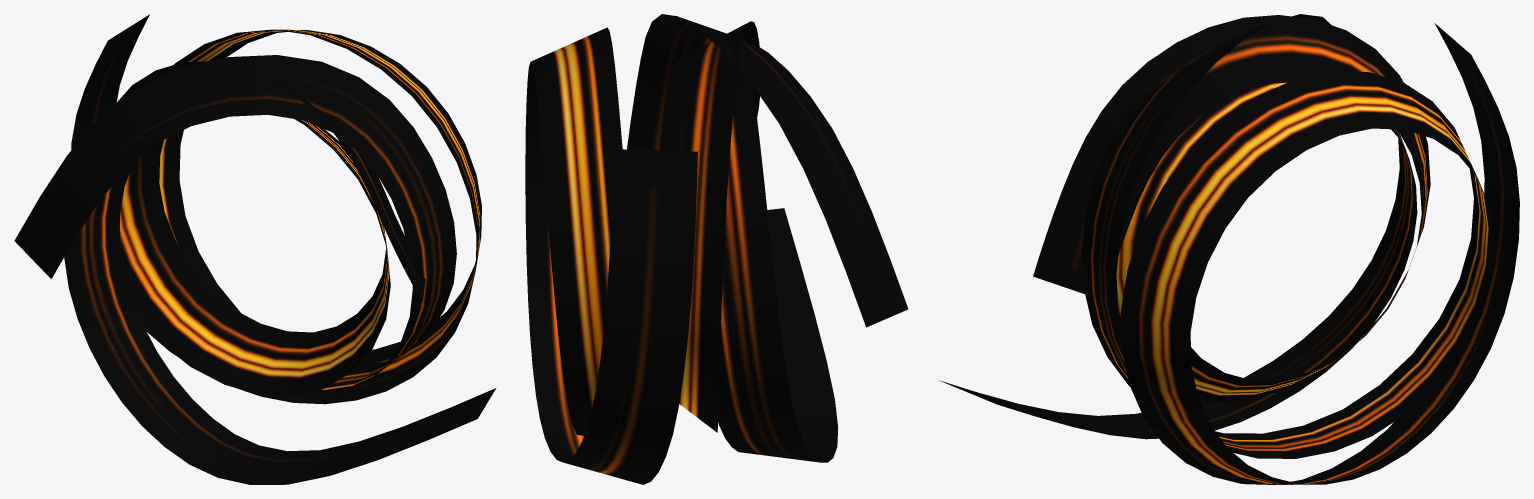
Rendered from effect_zhuque_1.FBX.
The picture shows the model from 3 angles, left to right: view 1: azimuth 30°, elevation 25°; view 2: azimuth 150°, elevation 25°; view 3: azimuth 270°, elevation 25°; orthographic projection. The views are drawn at different scales.
Visible parts, largest first — view 1: effect_zhuque_1_2, effect_zhuque_1_1; view 2: effect_zhuque_1_2, effect_zhuque_1_1; view 3: effect_zhuque_1_2, effect_zhuque_1_1.
Boxes of the visible parts, x1,y1,x2,y2 form: effect_zhuque_1_2: (14, 14, 481, 404); effect_zhuque_1_1: (64, 61, 496, 484); effect_zhuque_1_2: (525, 14, 908, 484); effect_zhuque_1_1: (660, 21, 838, 462); effect_zhuque_1_2: (1082, 14, 1519, 484); effect_zhuque_1_1: (939, 15, 1430, 439).
Bounding box in the file's own units: 235 × 219 × 276.
Materials: 1 (1 with a texture image).
